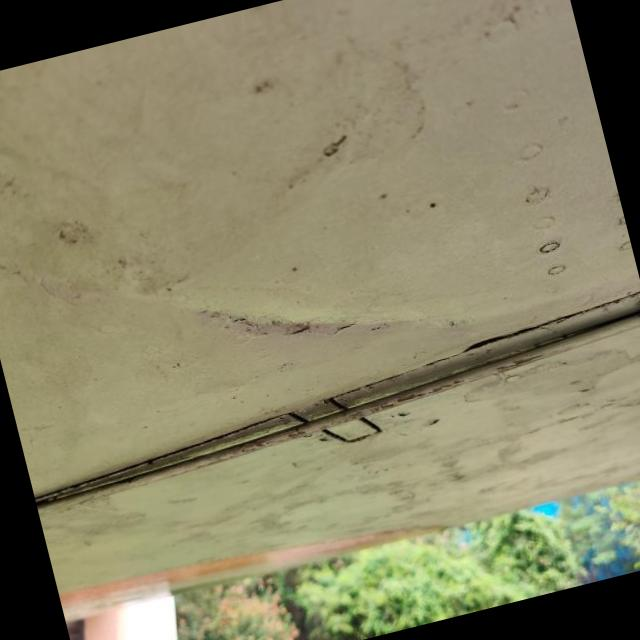Dent: (138, 202, 467, 411)
